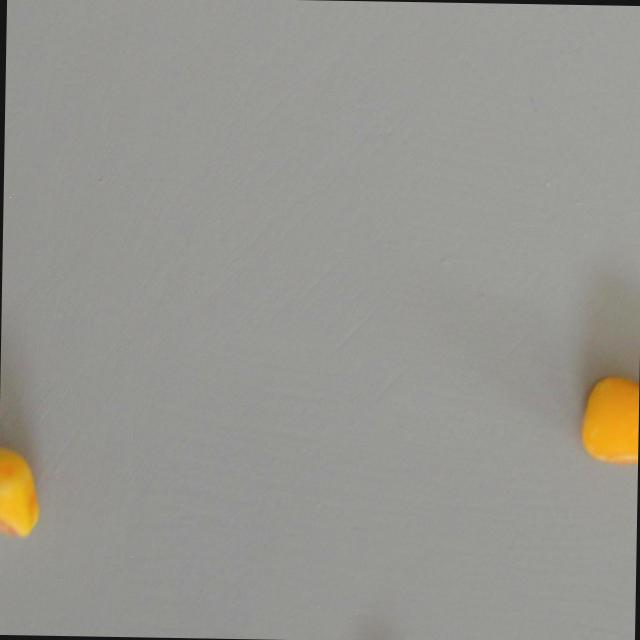pelicula: (578, 373, 639, 465)
